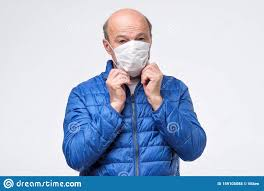masked: (97, 10, 159, 78)
